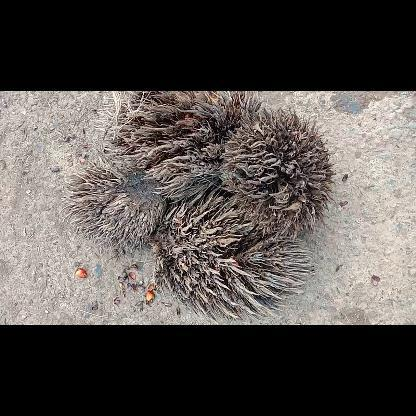Janjang kosong: (152, 196, 312, 324), (96, 90, 262, 202), (218, 108, 334, 240), (62, 153, 166, 253)
